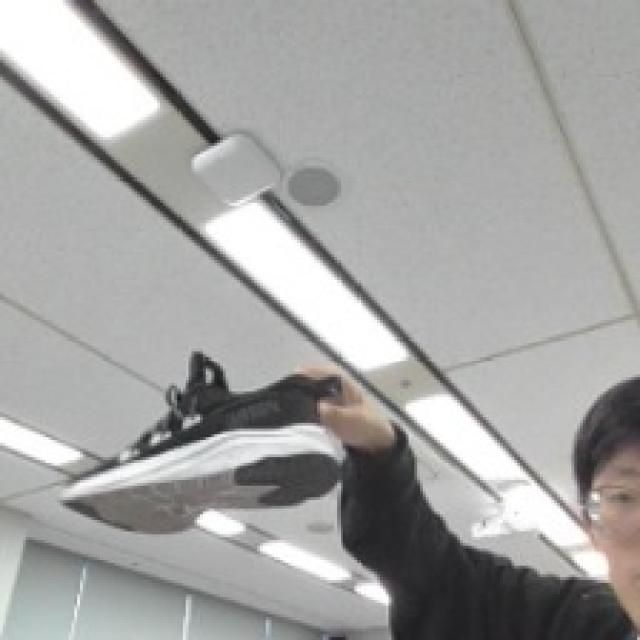shoe: (24, 325, 404, 543)
